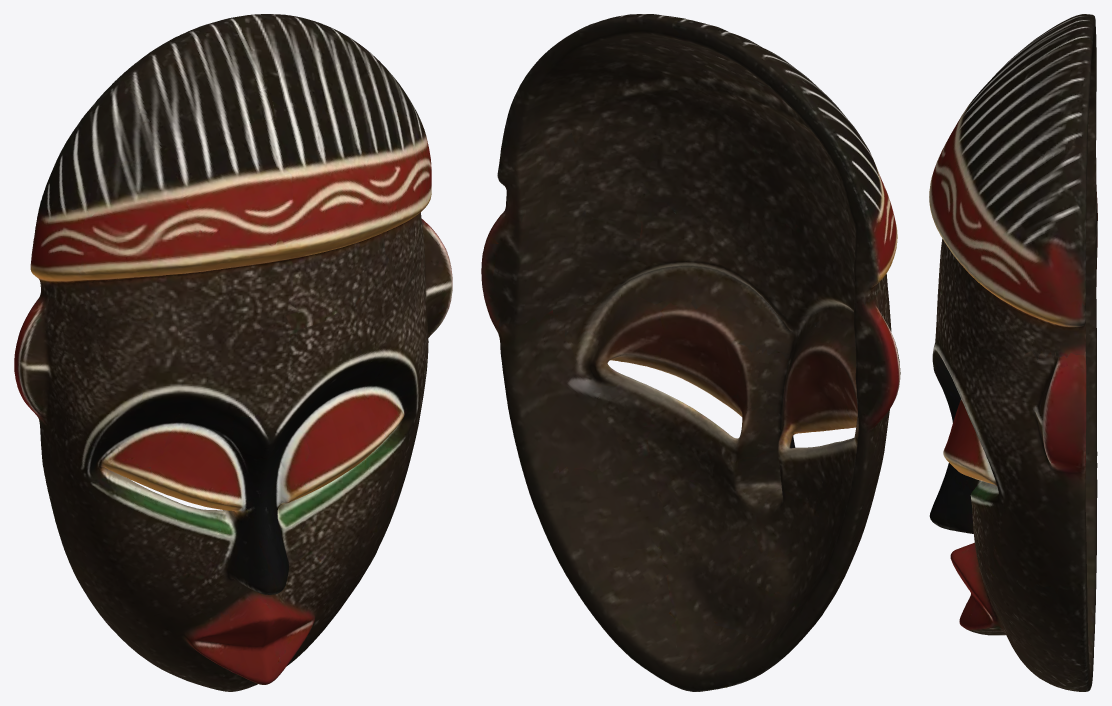
The model's file is african_tribal_mask.glb.
3 views of the same model, side by side, from view 1: azimuth 30°, elevation 25°; view 2: azimuth 150°, elevation 25°; view 3: azimuth 270°, elevation 25° (orthographic). The views are drawn at different scales.
Visible parts, largest first — view 1: Meshy_AI_African_Tribal_Mask_0916132242_texture.001; view 2: Meshy_AI_African_Tribal_Mask_0916132242_texture.001; view 3: Meshy_AI_African_Tribal_Mask_0916132242_texture.001.
Part boxes in pixels (x1=…): Meshy_AI_African_Tribal_Mask_0916132242_texture.001: x1=14, y1=14, x2=452, y2=691; Meshy_AI_African_Tribal_Mask_0916132242_texture.001: x1=481, y1=14, x2=900, y2=691; Meshy_AI_African_Tribal_Mask_0916132242_texture.001: x1=929, y1=14, x2=1097, y2=691.
Bounding box in the file's own units: 0.907 × 1.38 × 0.325.
1 material, 1 textured.
